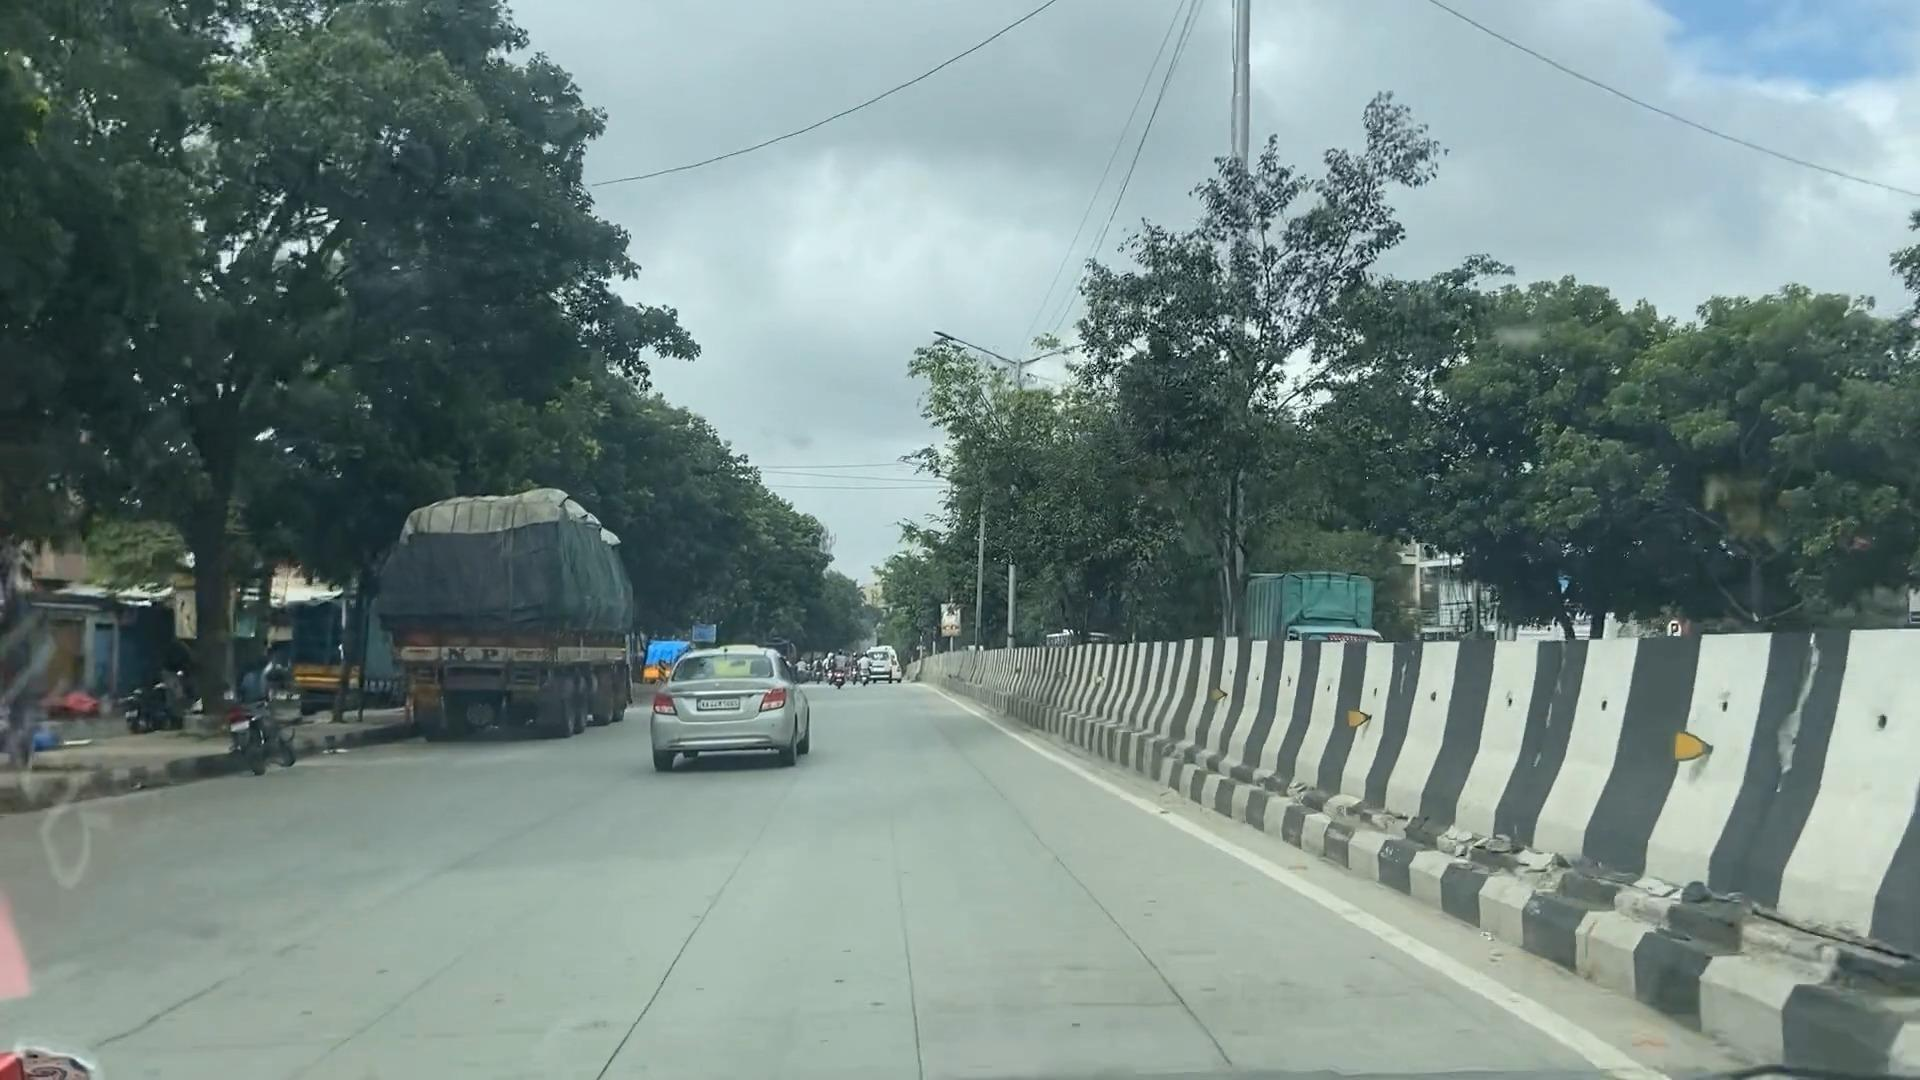HMV: (373, 476, 640, 724)
